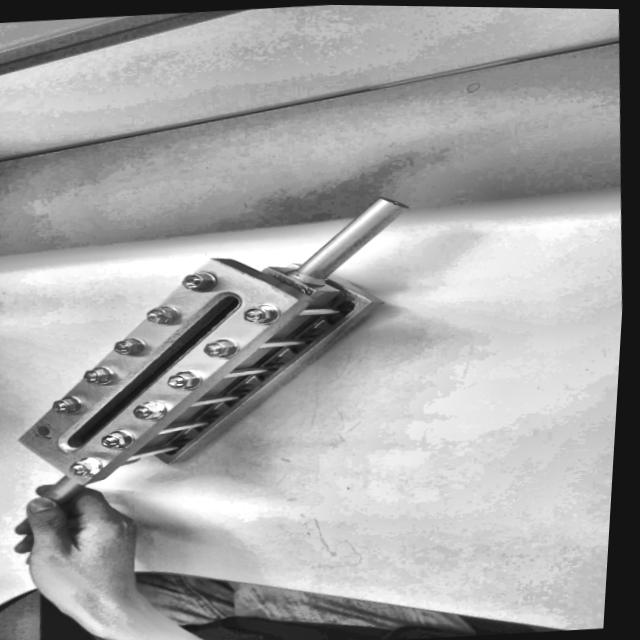ShuiWeiQi_11: (0, 178, 453, 504)
